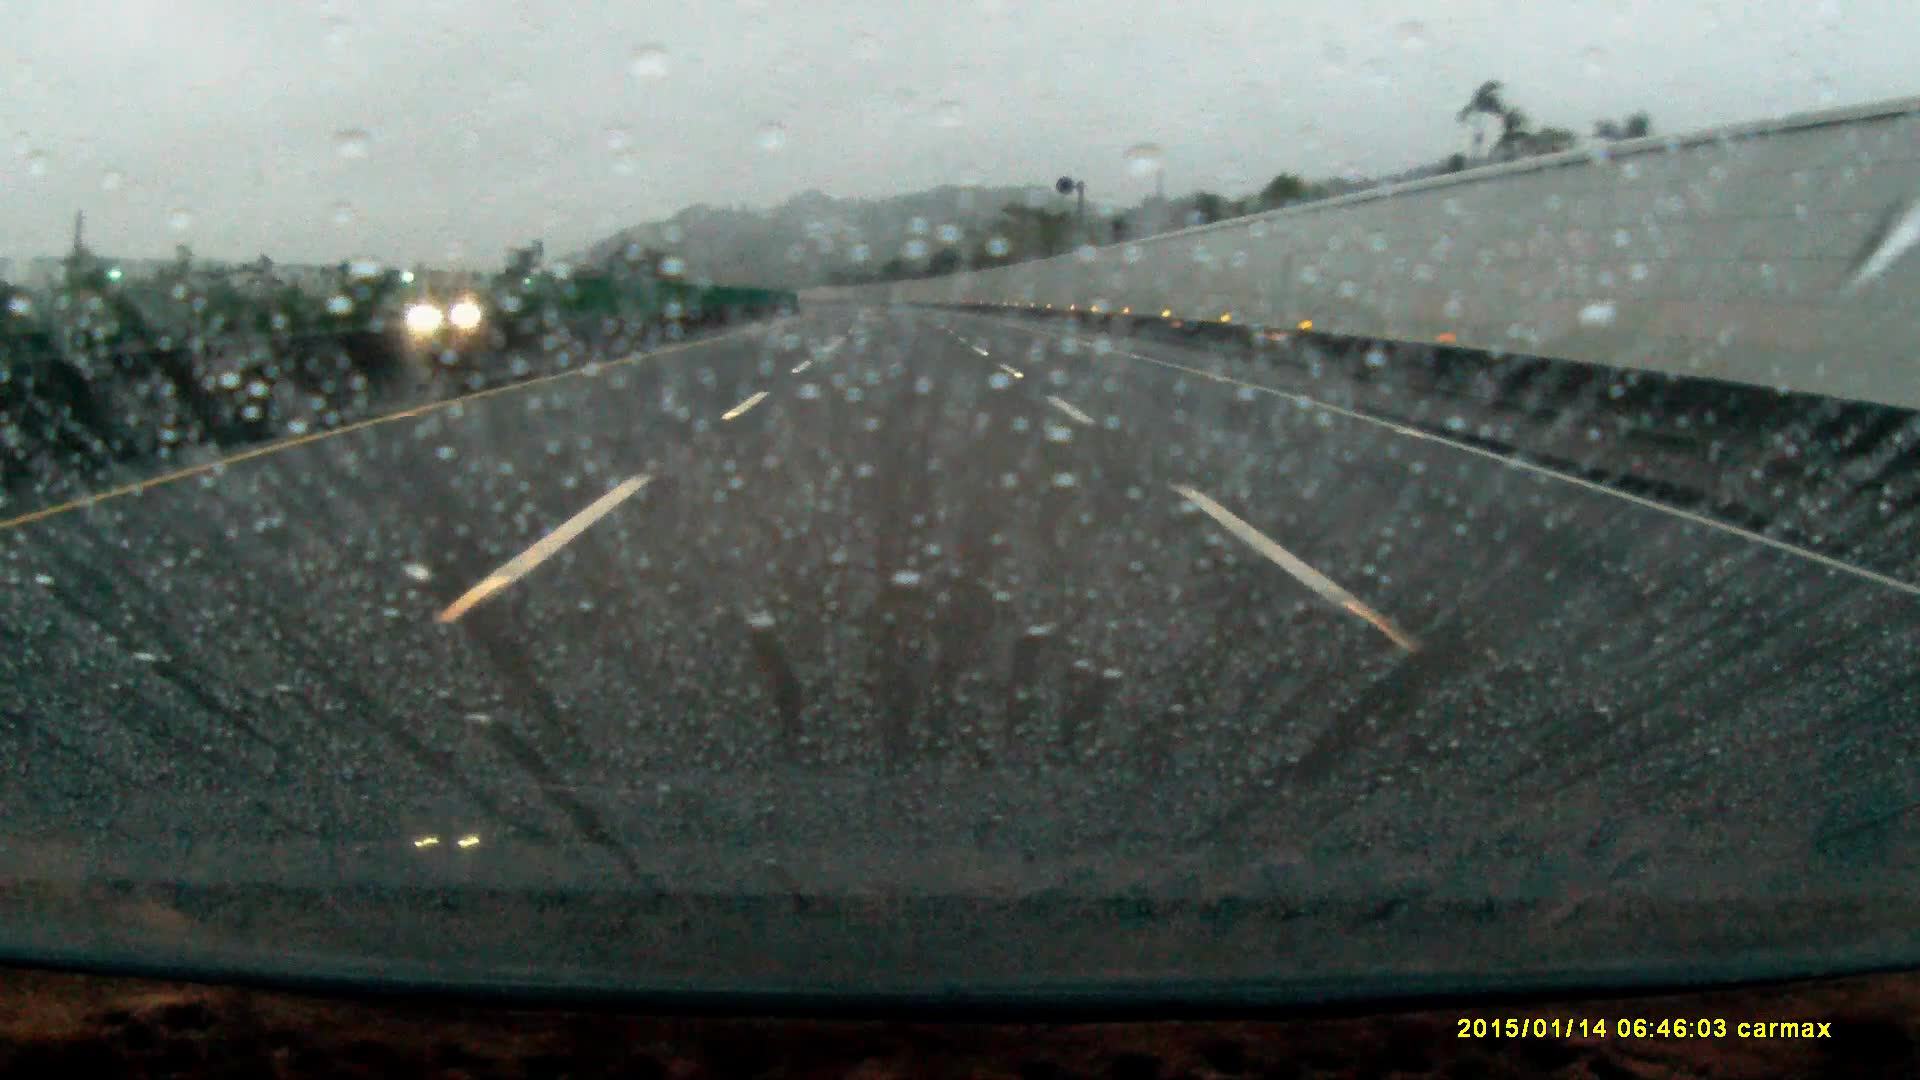vehicle: (407, 290, 497, 334)
